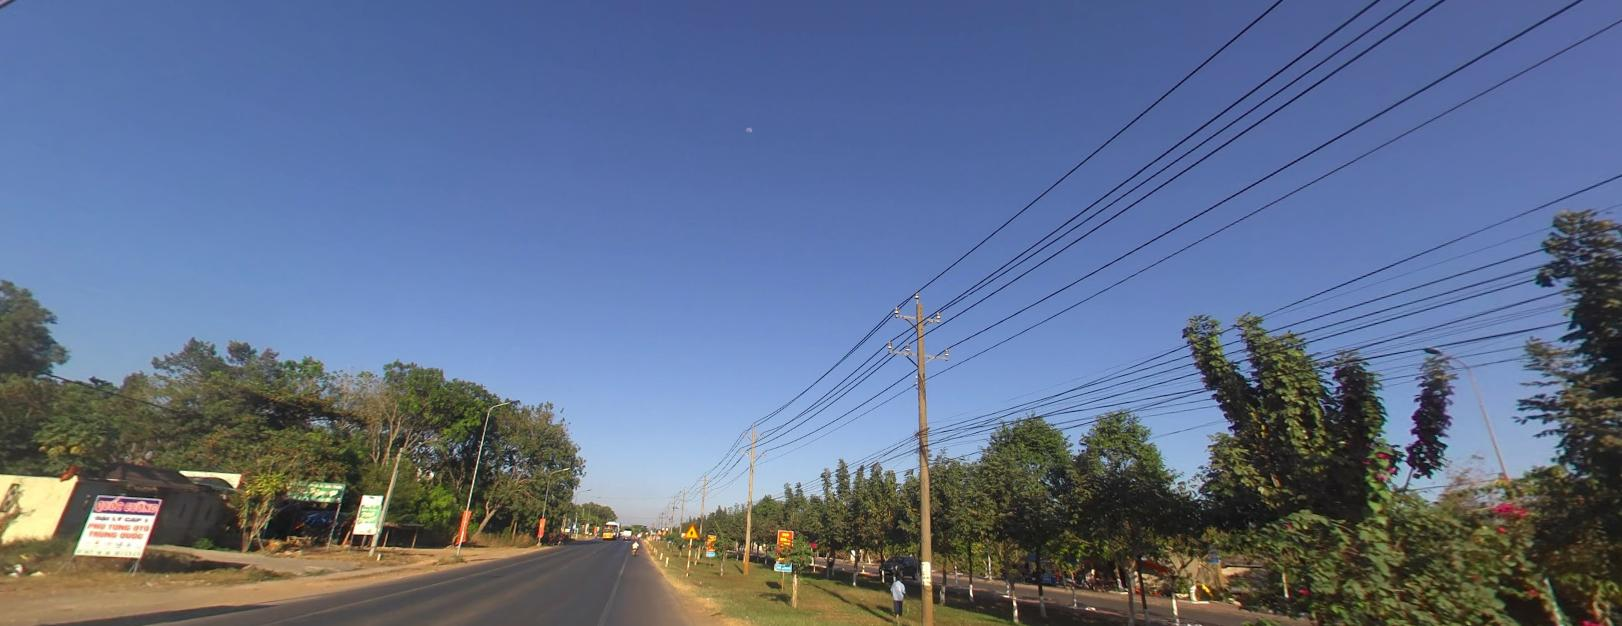Nguy hiem: (683, 521, 699, 538)
